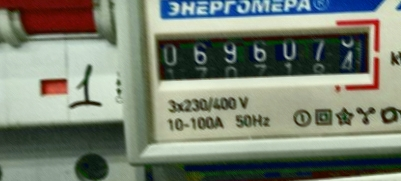0: (160, 41, 178, 65), (280, 35, 296, 60)
4: (338, 47, 355, 72)
6: (190, 40, 208, 64), (250, 37, 268, 61)
7: (310, 35, 326, 62)
9: (220, 39, 237, 63)
screen: (141, 11, 385, 94)
